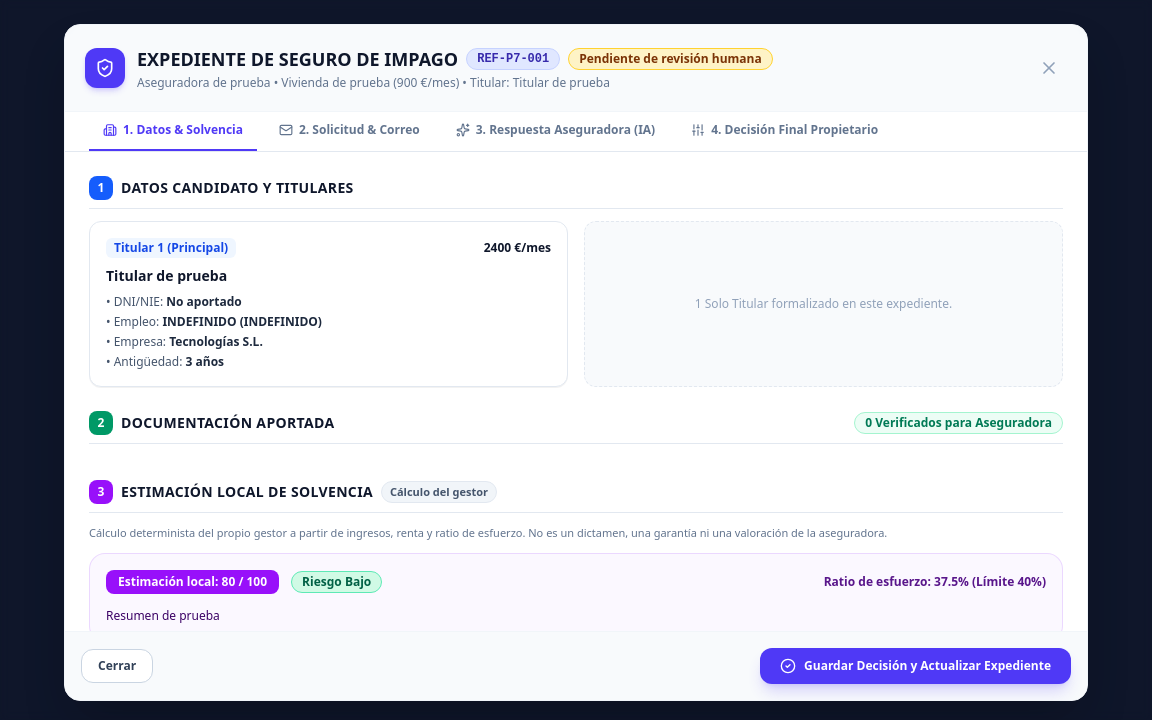
Test case: DetalleSolicitudSeguroModal · P7 trazabilidad de estados y procedencia › conserva y muestra la respuesta pendiente de revisión al reabrir el expediente
Expected: the text with test id "origen-dictamen-expediente" reads "Pendiente de revisión humana", x1=579 y1=50 x2=762 y2=67
Click the button "3. Respuesta Aseguradora (IA)".
click(555, 131)  # box x1=442 y1=112 x2=669 y2=151
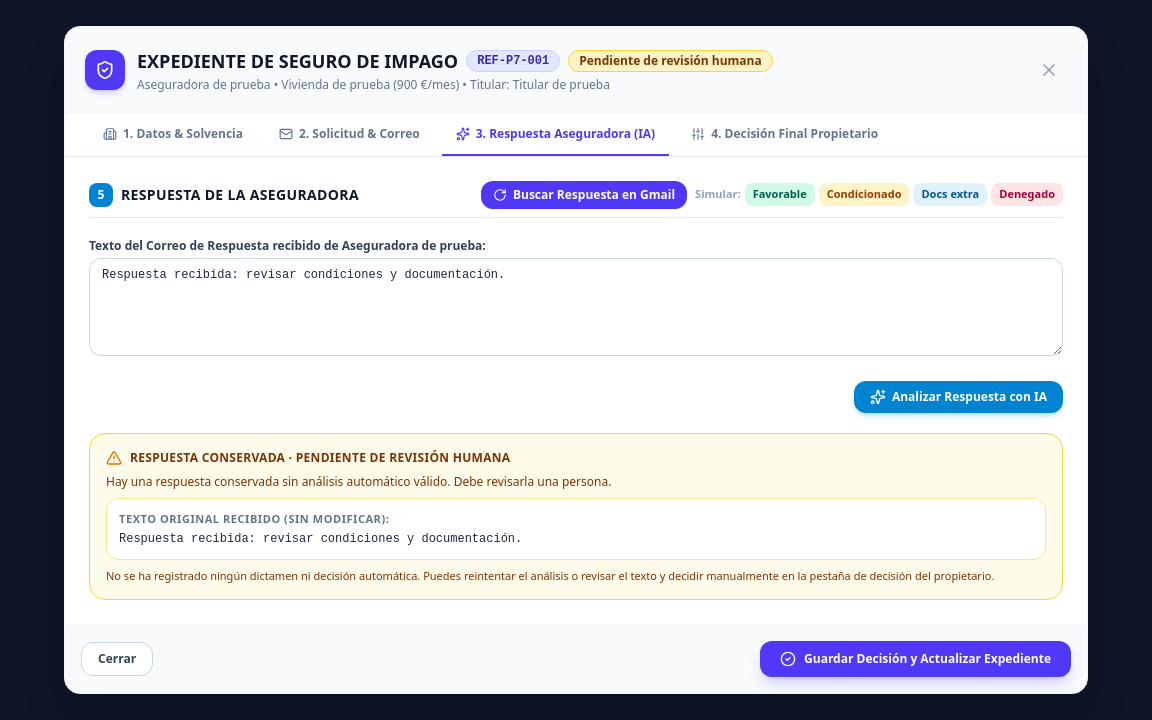
Now the message with test id "respuesta-pendiente-revision" is shown, box x1=89 y1=433 x2=1063 y2=600
Now the text with test id "texto-respuesta-conservado" reads "Respuesta recibida: revisar condiciones y documentación.", box x1=119 y1=532 x2=522 y2=546
